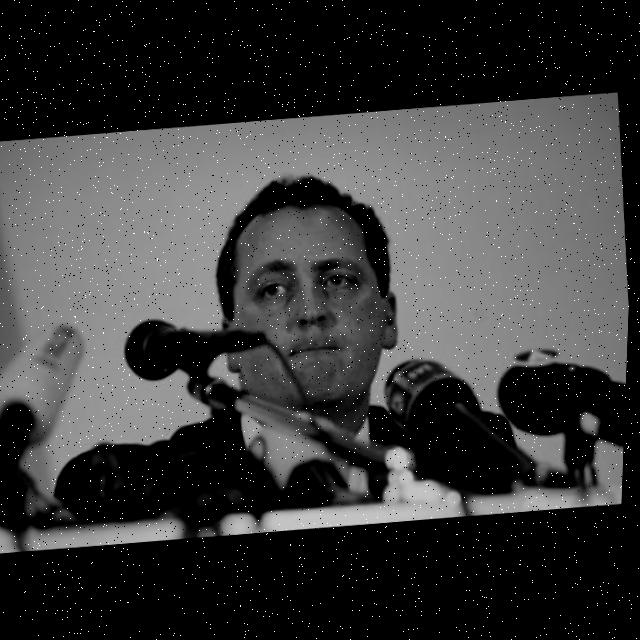face: (207, 166, 406, 430)
